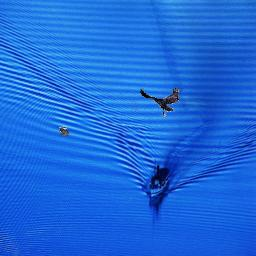Crow: (140, 87, 180, 117), (59, 126, 69, 136)
